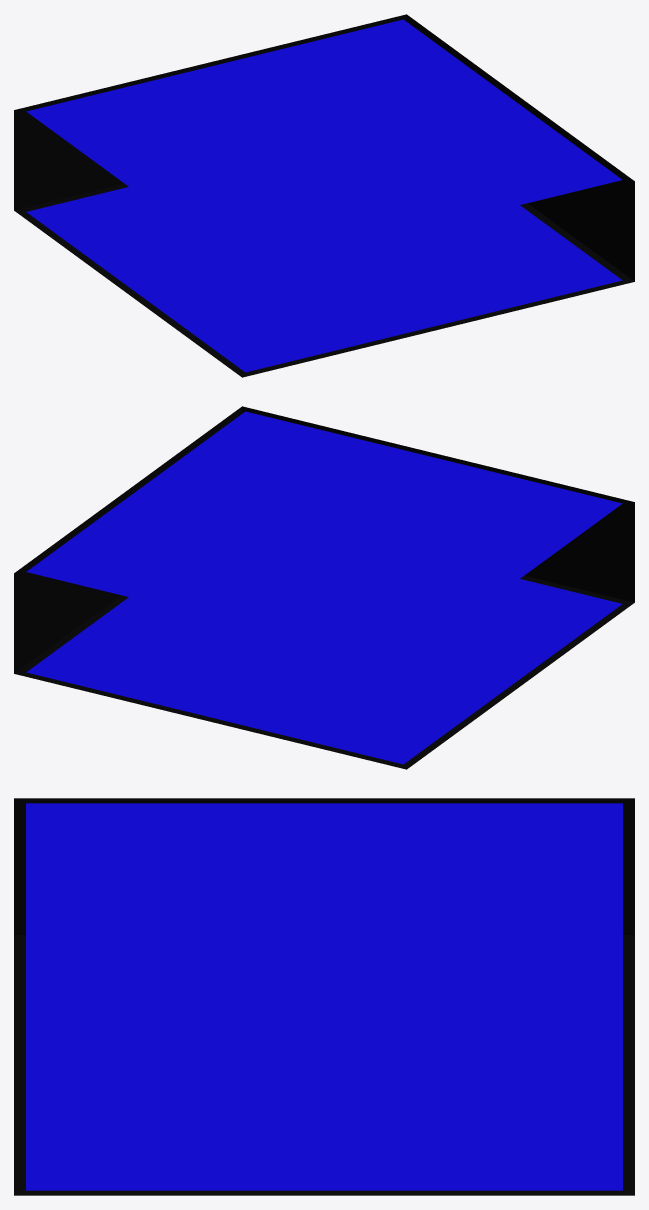
File: BLUE COBE.glb
The picture shows the model from 3 angles, top to bottom: view 1: azimuth 30°, elevation 25°; view 2: azimuth 150°, elevation 25°; view 3: azimuth 270°, elevation 25°; orthographic projection. The views are drawn at different scales.
Parts seen in each view (by area): view 1: Plane.003; view 2: Plane.003; view 3: Plane.003.
Part boxes in pixels (bbox=[...]): Plane.003: bbox=[14, 14, 634, 377]; Plane.003: bbox=[14, 406, 634, 769]; Plane.003: bbox=[14, 798, 634, 1195].
Bounding box in the file's own units: 1.99 × 0.4854 × 2.
